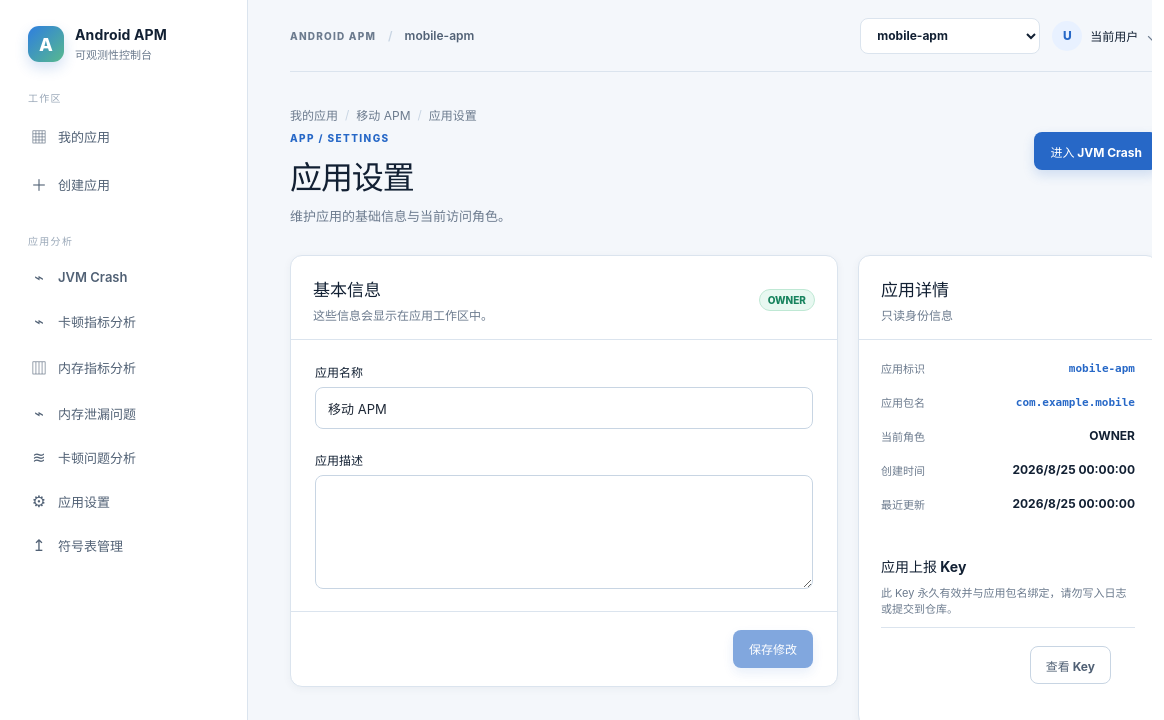
Test: AppSettingsView › keeps credential state empty when the credential request fails
What coordinates should you click on to do the following:
click the button "查看 Key"
I would click on:
 (1070, 665)
Its box is [1030,646,1111,684].
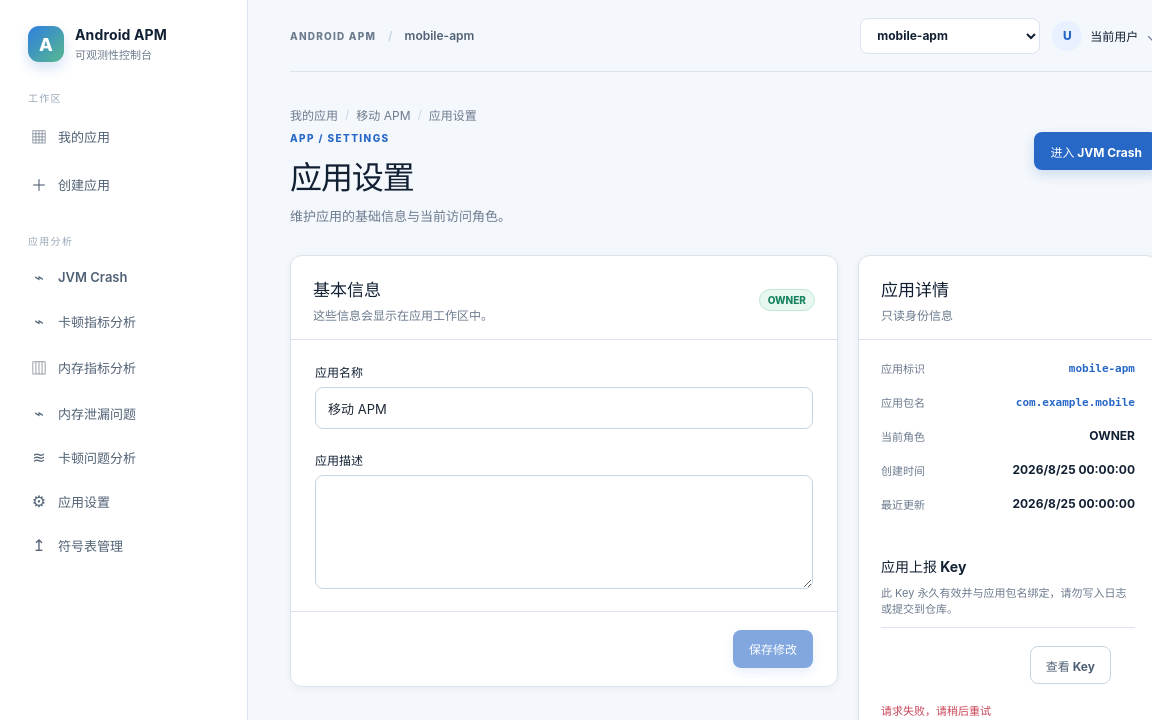
Now the text "请求失败，请稍后重试" is shown, box [881,704,991,718]
